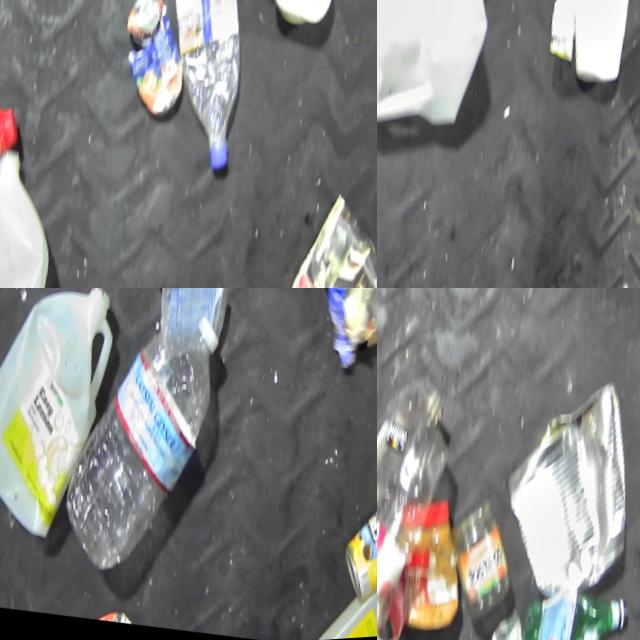can: (103, 0, 193, 120), (318, 487, 377, 611)
milk_jug: (0, 288, 123, 543), (377, 0, 515, 162), (0, 158, 67, 288)
plastic_bottle: (33, 295, 236, 580), (131, 0, 277, 174), (503, 574, 625, 640)
